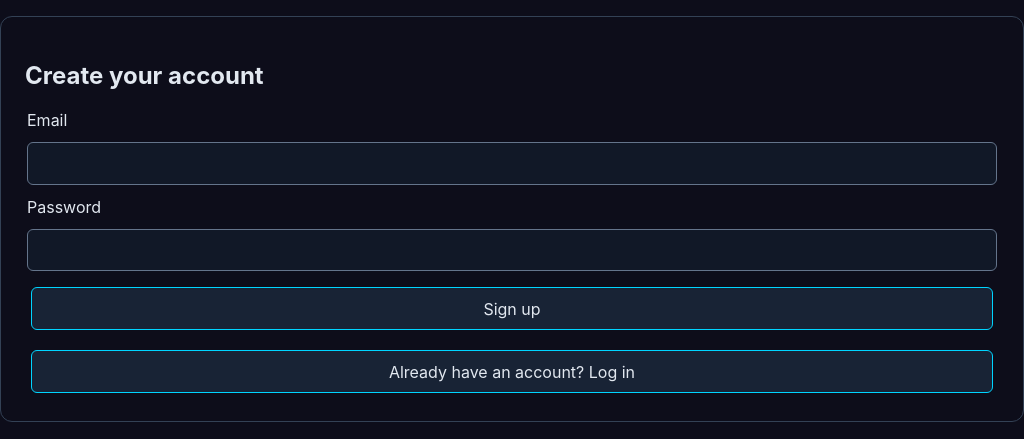
Test: signs up, restores the account after reload, logs out, and logs back in
Type "qa@example.test" into the field named "email". click: (512, 163)
box: [27,142,997,185]
Type "test-password-only" into the password field named "password". click: (512, 250)
box: [27,229,997,271]
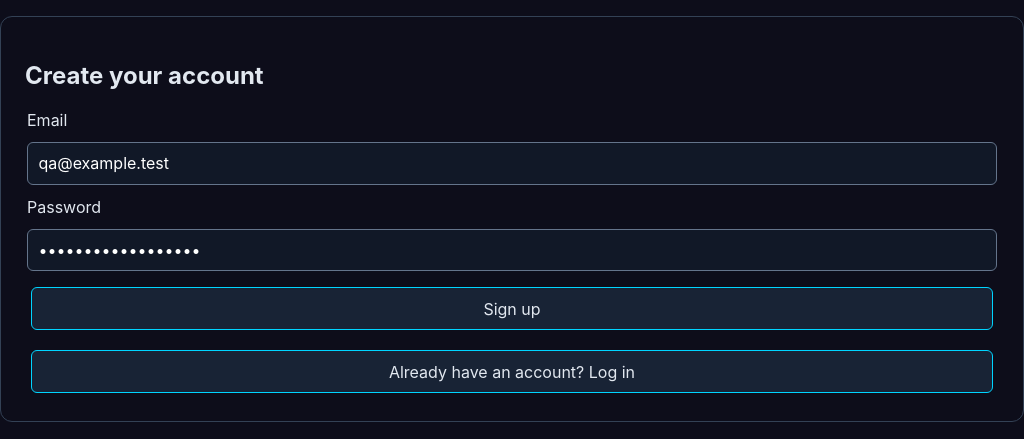
Submit the form
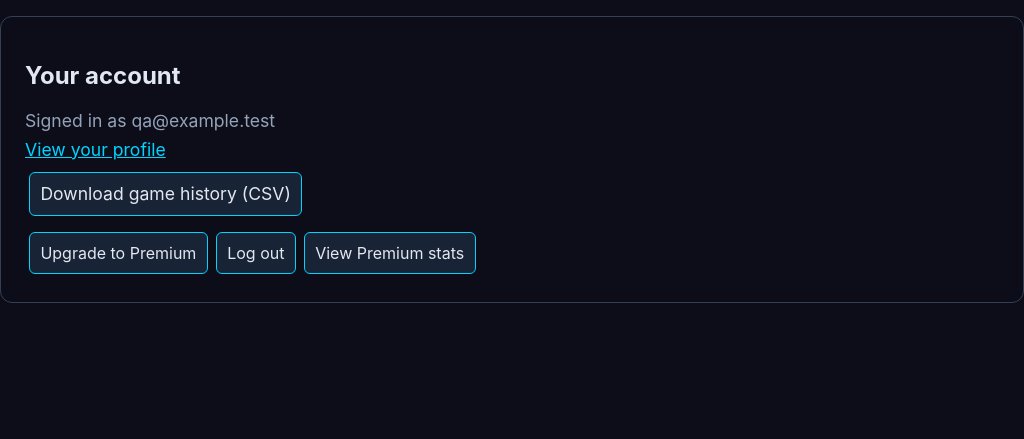
Check: the text "qa@example.test" is shown, box [131,110,275,131]
Click the button "Log out". click: (256, 253)
box: [216,232,296,274]
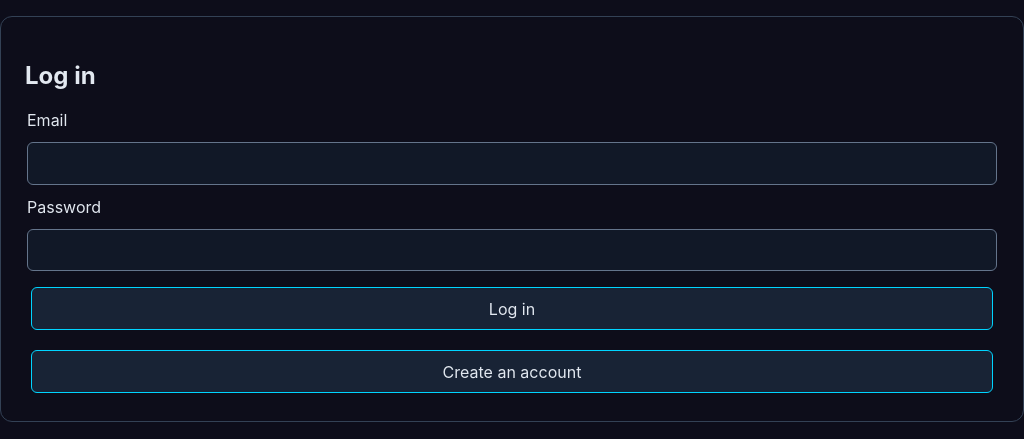
Check: the text "Signed in as" is gone
Type "qa@example.test" into the field named "email". click: (512, 163)
box: [27,142,997,185]
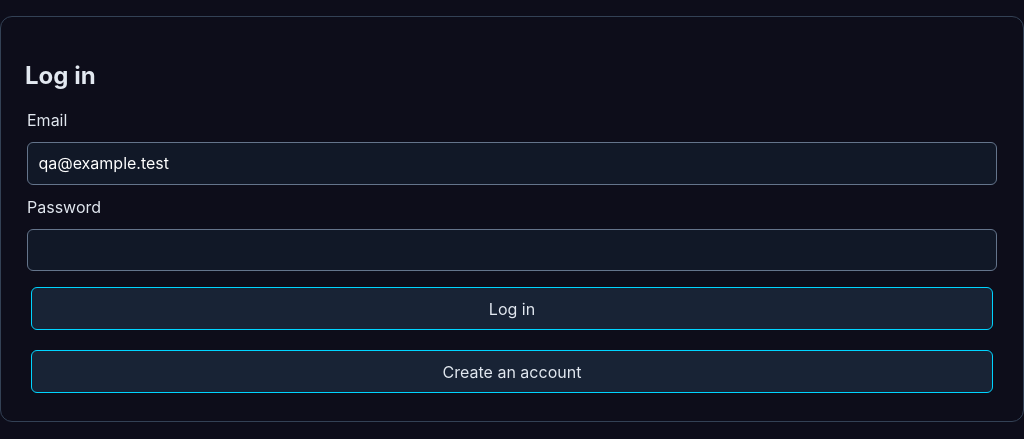
Type "test-password-only" into the password field named "password". click: (512, 250)
box: [27,229,997,271]
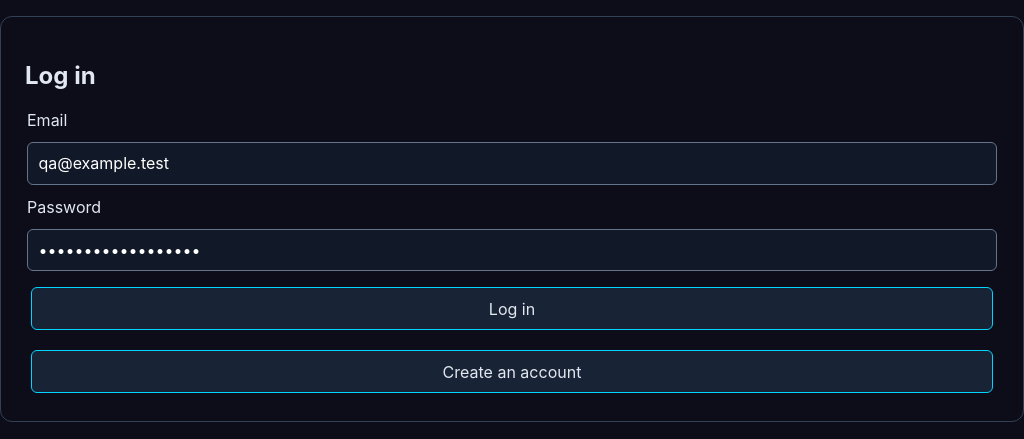
Submit the form
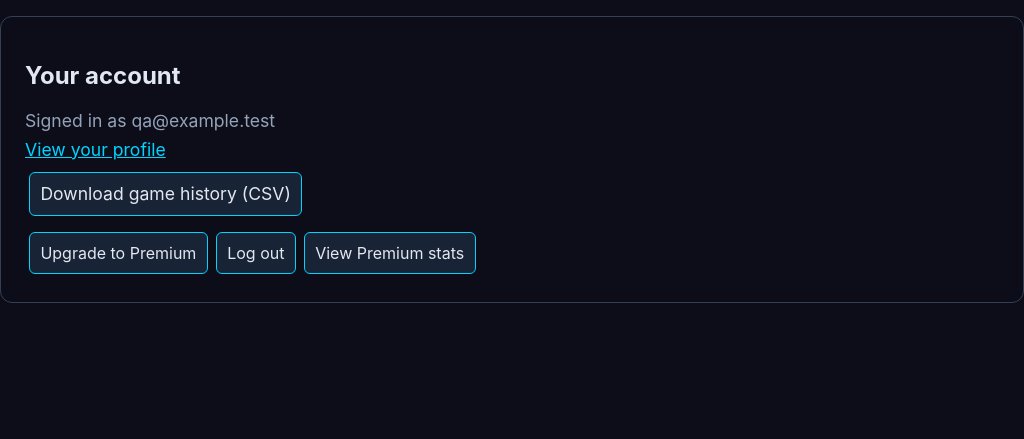
Check: the text "qa@example.test" is shown, box [131,110,275,131]
